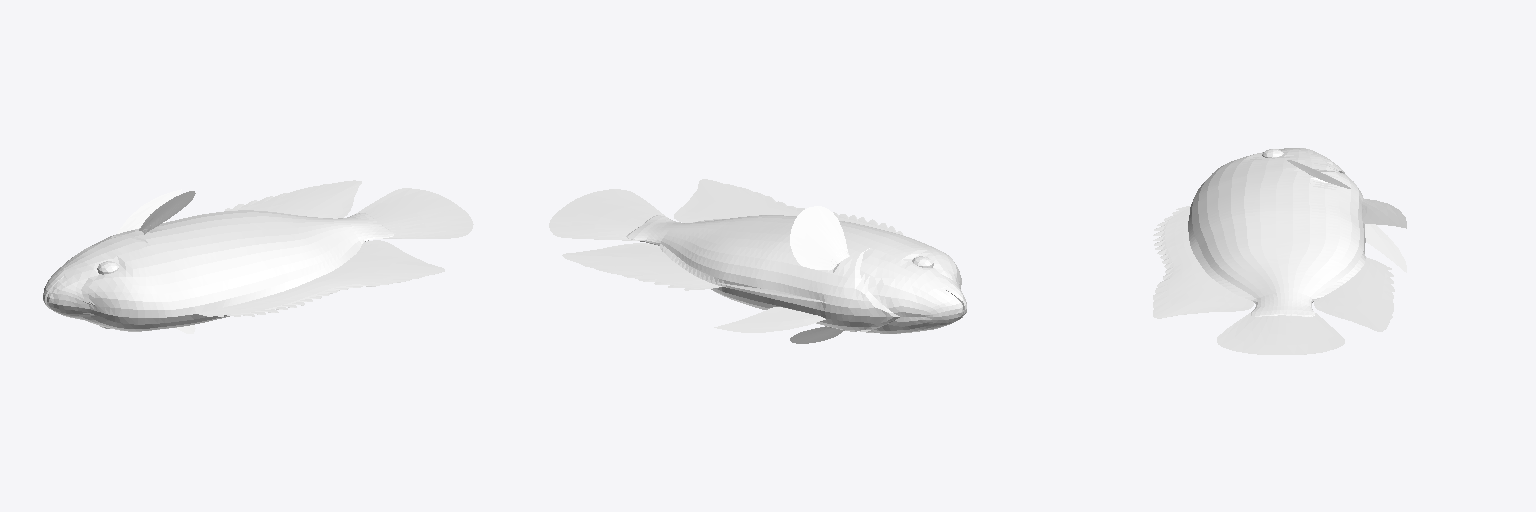
Rendered from Redhead.obj.
3 renders of one model, left to right at view 1: azimuth 30°, elevation 25°; view 2: azimuth 150°, elevation 25°; view 3: azimuth 270°, elevation 25°, orthographic.
Bounding box in the file's own units: 0.3992 × 0.128 × 0.2167.